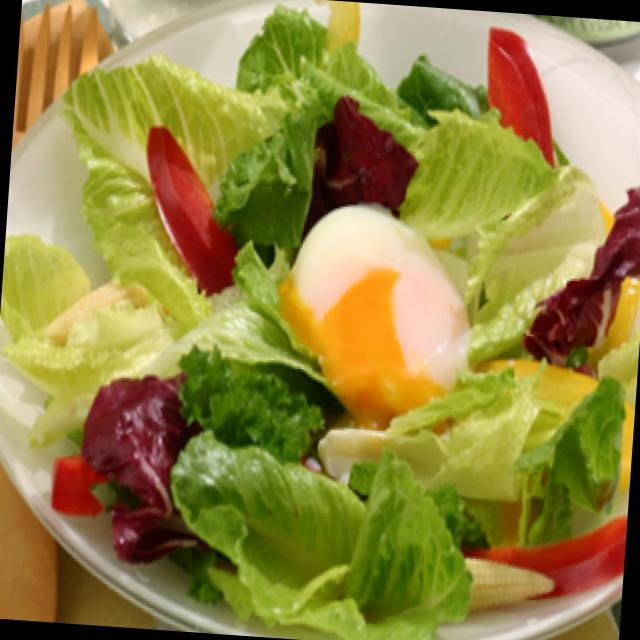Green Salad: (8, 22, 640, 598)
